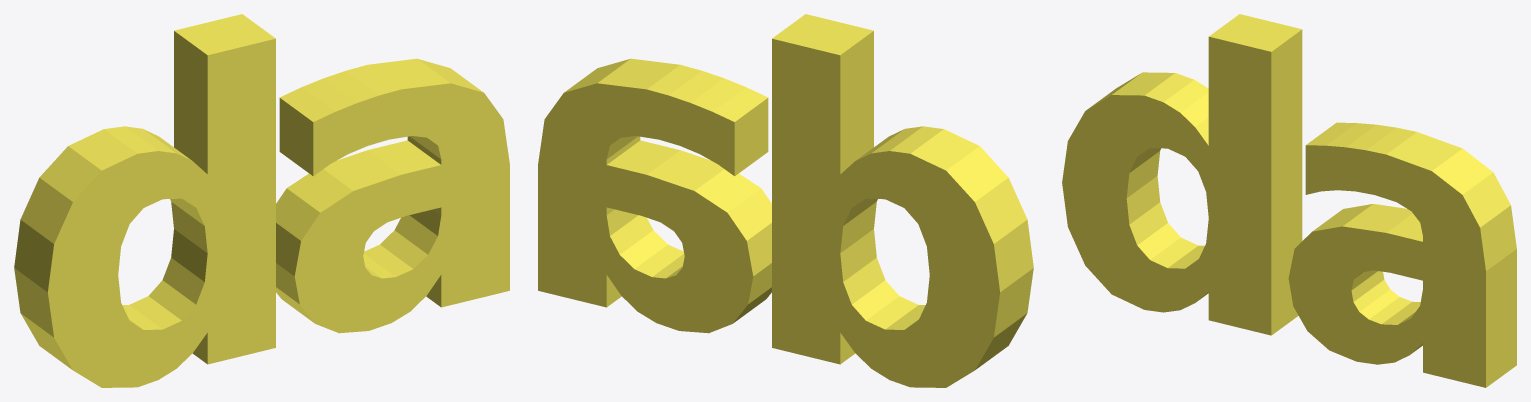
File: suku_kecil_da.glb
3 renders of one model, left to right at view 1: azimuth 30°, elevation 25°; view 2: azimuth 150°, elevation 25°; view 3: azimuth 330°, elevation 25°, orthographic. The views are drawn at different scales.
Parts seen in each view (by area): view 1: geometry_0; view 2: geometry_0; view 3: geometry_0.
Boxes of the visible parts, bbox=[...] form: geometry_0: bbox=[14, 14, 509, 387]; geometry_0: bbox=[538, 14, 1033, 387]; geometry_0: bbox=[1062, 14, 1516, 387].
Bounding box in the file's own units: 11.88 × 7.74 × 1.5.
